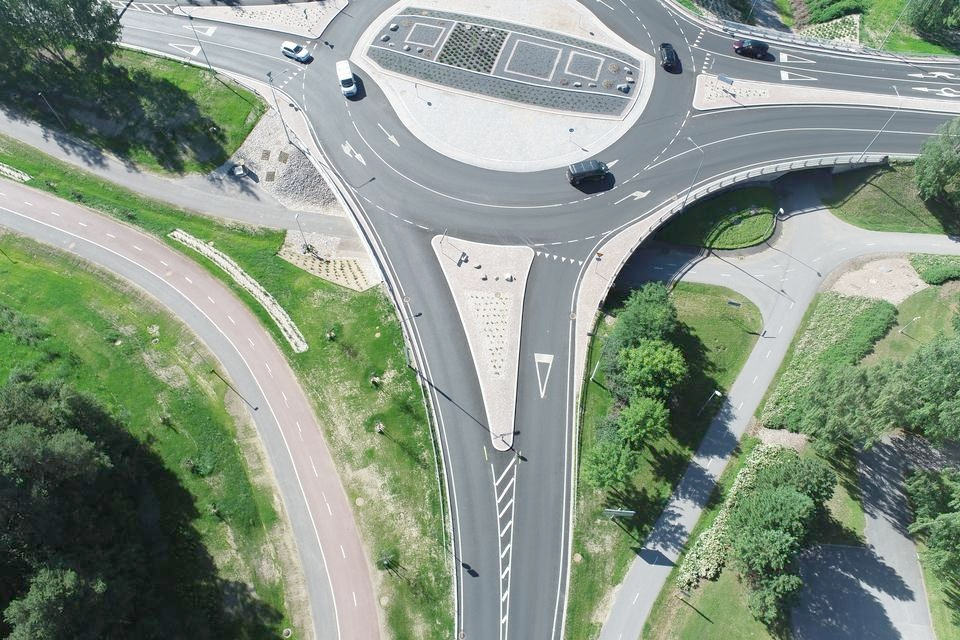roundabout: (234, 0, 776, 358)
